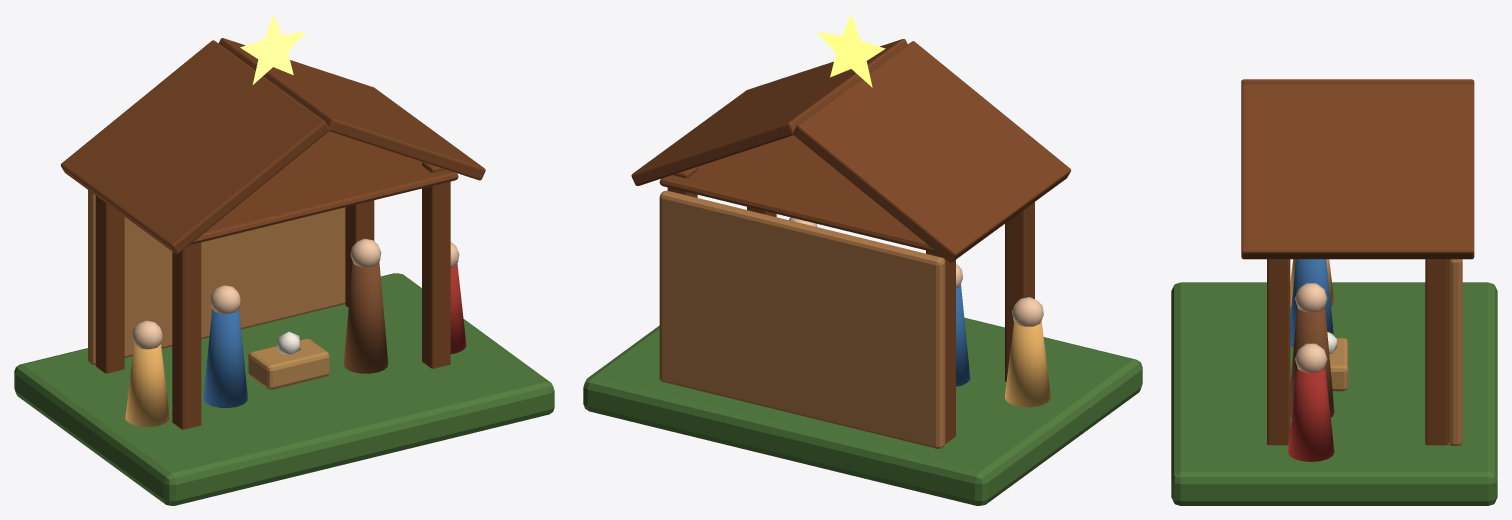
Rendered from presepe.glb.
3 renders of one model, left to right at view 1: azimuth 30°, elevation 25°; view 2: azimuth 150°, elevation 25°; view 3: azimuth 270°, elevation 25°, orthographic. The views are drawn at different scales.
Parts seen in each view (by area): view 1: Cube, Cube.007, Cube.006, Cube.001, Cube.008, Cube.004, Cube.002, Cube.003, Cone.001, Cone, Cone.003, Cube.009 (+6 smaller); view 2: Cube.006, Cube, Cube.007, Cube.001, Cube.008, Cube.002, Cone.003, Cube.003, sternk, Cone, Icosphere.003; view 3: Cube, Cube.008, Cube.005, Cube.004, Cone.002, Cube.006, Cone.001, Cone, Cube.007, Cube.009, Icosphere.002, Icosphere.001.
Boxes of the visible parts, bbox=[...] form: Cube: bbox=[14, 273, 554, 505]; Cube.007: bbox=[60, 40, 329, 254]; Cube.006: bbox=[88, 190, 345, 364]; Cube.001: bbox=[190, 131, 458, 244]; Cube.008: bbox=[218, 38, 485, 180]; Cube.004: bbox=[422, 162, 450, 368]; Cube.002: bbox=[172, 242, 201, 429]; Cube.003: bbox=[95, 196, 124, 373]; Cone.001: bbox=[343, 262, 388, 373]; Cone: bbox=[203, 308, 247, 407]; Cone.003: bbox=[125, 344, 169, 426]; Cube.009: bbox=[248, 339, 329, 389]; Cube.006: bbox=[659, 190, 945, 448]; Cube: bbox=[583, 317, 1142, 505]; Cube.007: bbox=[793, 41, 1070, 262]; Cube.001: bbox=[659, 135, 937, 252]; Cube.008: bbox=[631, 39, 907, 185]; Cube.002: bbox=[1005, 202, 1034, 381]; Cone.003: bbox=[1005, 321, 1050, 407]; Cube.003: bbox=[926, 250, 955, 443]; sternk: bbox=[817, 14, 885, 87]; Cone: bbox=[956, 284, 970, 386]; Icosphere.003: bbox=[1012, 297, 1043, 326]; Cube: bbox=[1171, 282, 1497, 505]; Cube.008: bbox=[1241, 84, 1474, 259]; Cube.005: bbox=[1425, 259, 1448, 445]; Cube.004: bbox=[1267, 259, 1290, 445]; Cone.002: bbox=[1288, 367, 1334, 461]; Cube.006: bbox=[1448, 259, 1462, 445]; Cone.001: bbox=[1290, 307, 1334, 417]; Cone: bbox=[1290, 259, 1333, 347]; Cube.007: bbox=[1241, 79, 1474, 85]; Cube.009: bbox=[1329, 338, 1348, 391]; Icosphere.002: bbox=[1295, 343, 1327, 372]; Icosphere.001: bbox=[1295, 283, 1327, 312].
Size of the model in its own units: 1 by 0.94 by 0.7.
